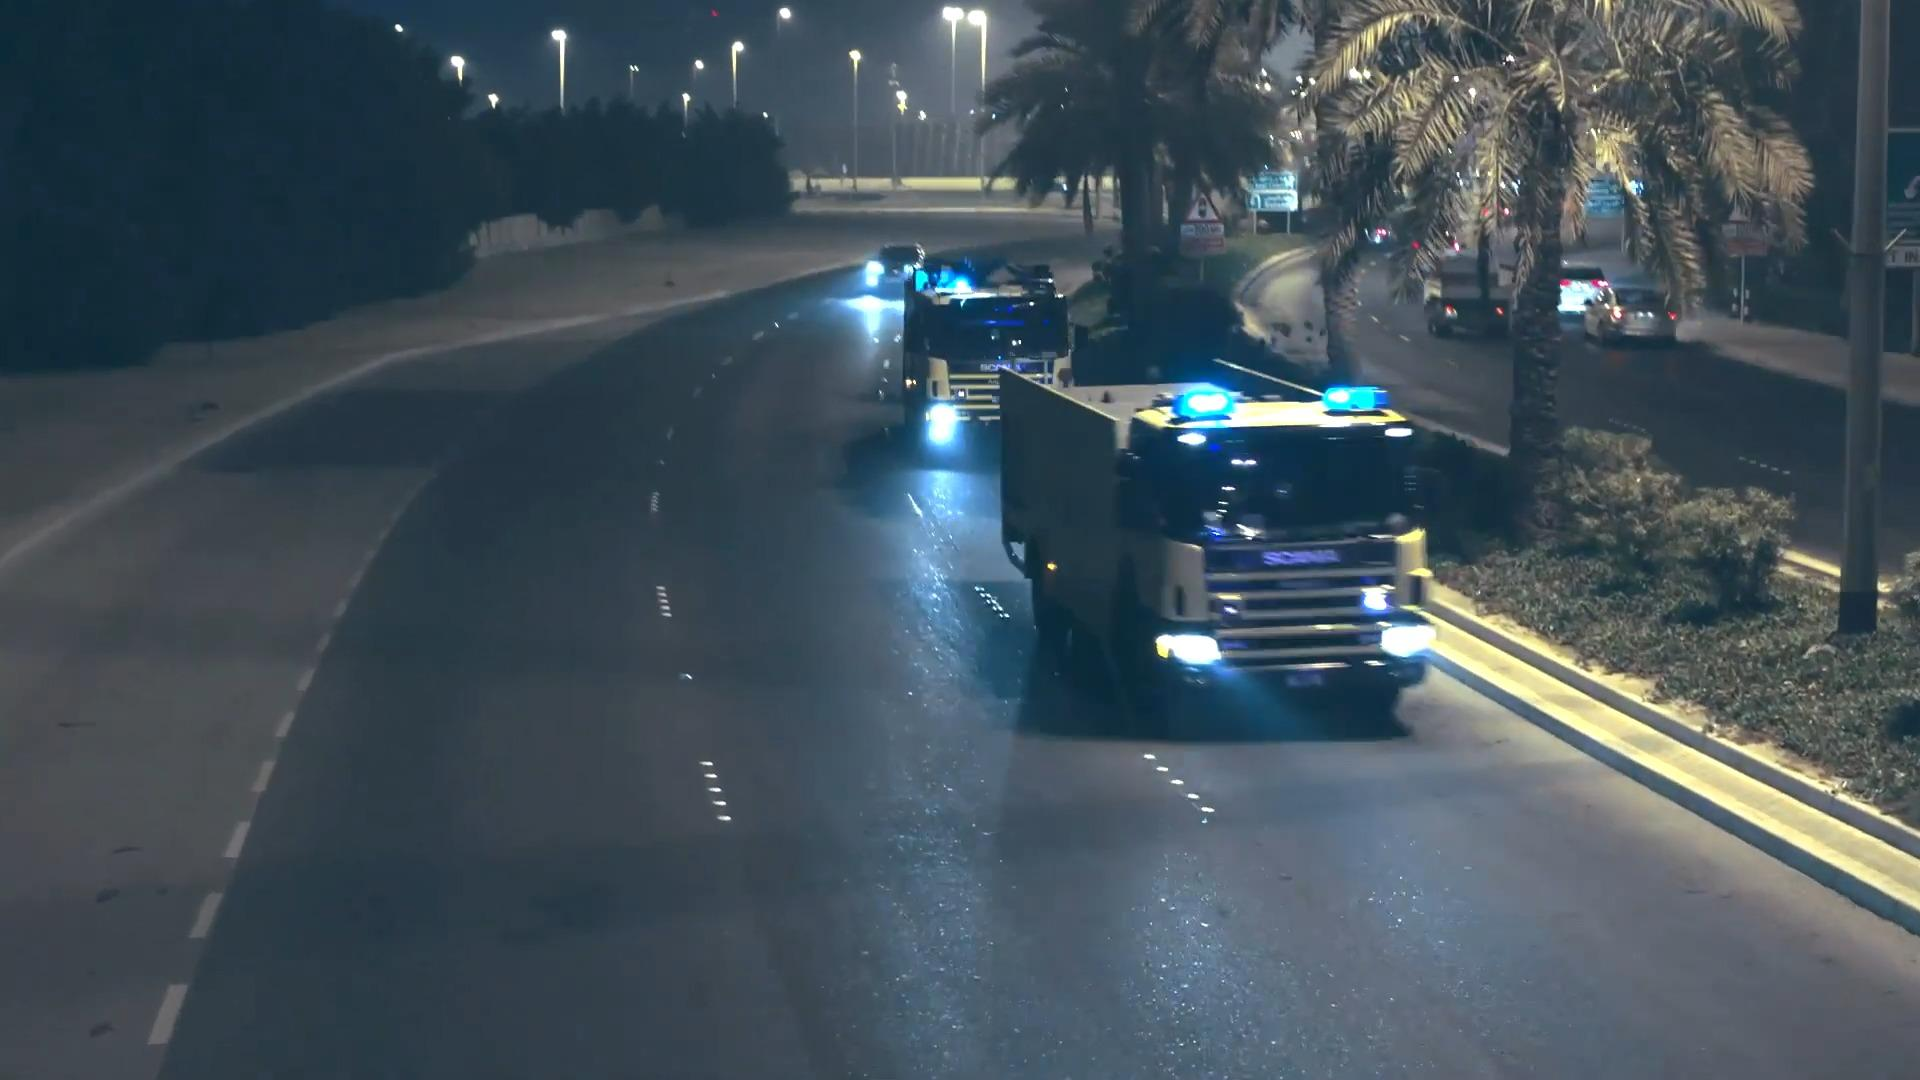firetruck_on: (1000, 358, 1435, 721), (906, 264, 1090, 455)
